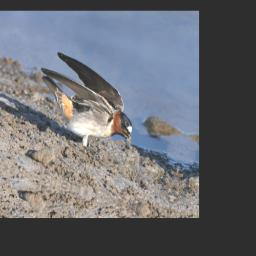Swallow: (26, 47, 144, 169)
